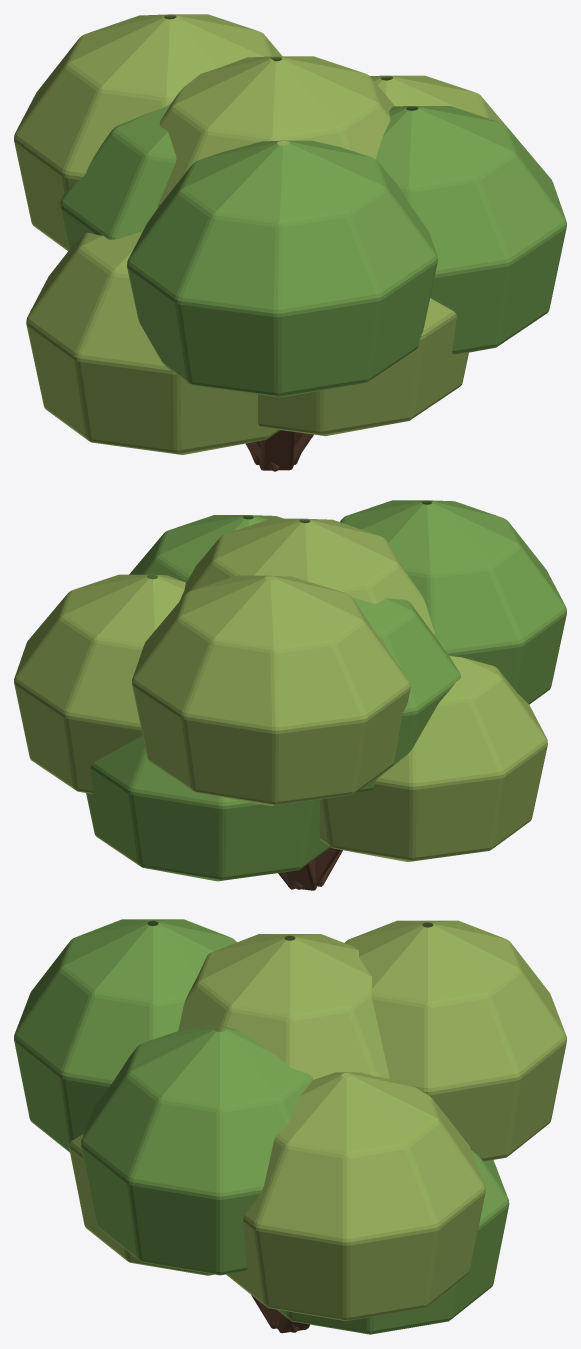
The model's file is ashwick-leafy-shrub.meshopt.glb.
3 views of the same model, one above another, from view 1: azimuth 30°, elevation 25°; view 2: azimuth 150°, elevation 25°; view 3: azimuth 270°, elevation 25° (orthographic). The views are drawn at different scales.
Visible parts, largest first — view 1: Leaf clusters.003, Leaf clusters.002, Branches.001; view 2: Leaf clusters.002, Leaf clusters.003, Branches.001; view 3: Leaf clusters.002, Leaf clusters.003, Branches.001.
Part boxes in pixels (box(x1,y1,x2,y2)): Leaf clusters.003: box(60, 102, 566, 397); Leaf clusters.002: box(14, 14, 504, 454); Branches.001: box(246, 430, 313, 471); Leaf clusters.002: box(14, 518, 547, 861); Leaf clusters.003: box(86, 500, 566, 881); Branches.001: box(278, 847, 342, 890); Leaf clusters.002: box(68, 920, 566, 1321); Leaf clusters.003: box(14, 919, 509, 1334); Branches.001: box(251, 1295, 309, 1333).
Size of the model in its own units: 1.32 by 0.9927 by 1.28.
